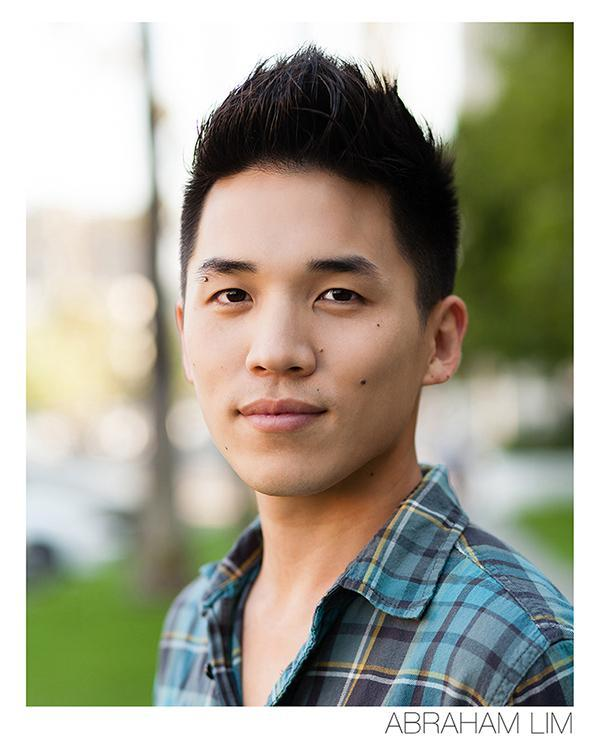bare: (184, 321, 422, 488)
